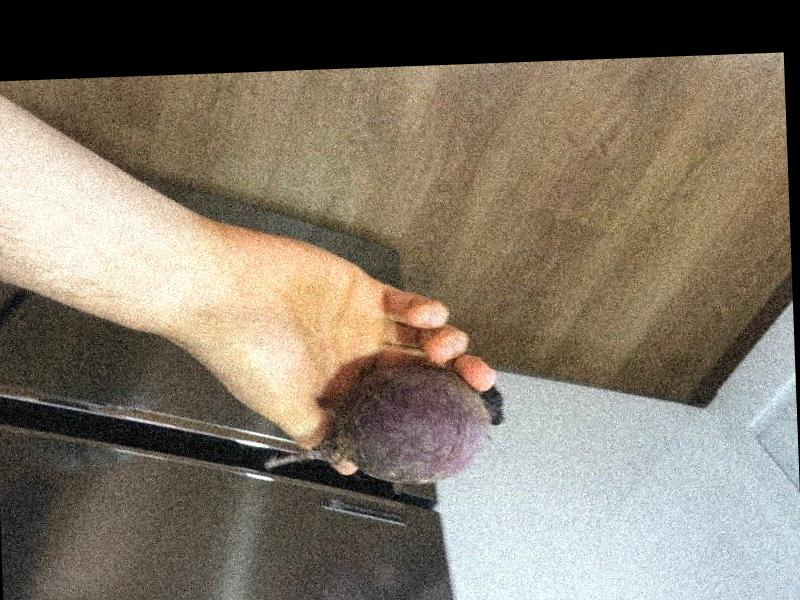Beet: (264, 365, 508, 487)
